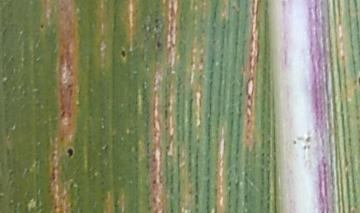tarspot: (66, 147, 74, 158), (120, 49, 127, 60), (155, 39, 162, 49), (249, 32, 255, 42), (291, 138, 297, 147), (233, 39, 240, 46), (39, 22, 45, 30), (154, 23, 160, 31), (150, 178, 156, 186), (356, 74, 360, 86), (210, 57, 215, 65), (153, 17, 159, 23), (230, 4, 236, 10), (165, 144, 170, 151)
